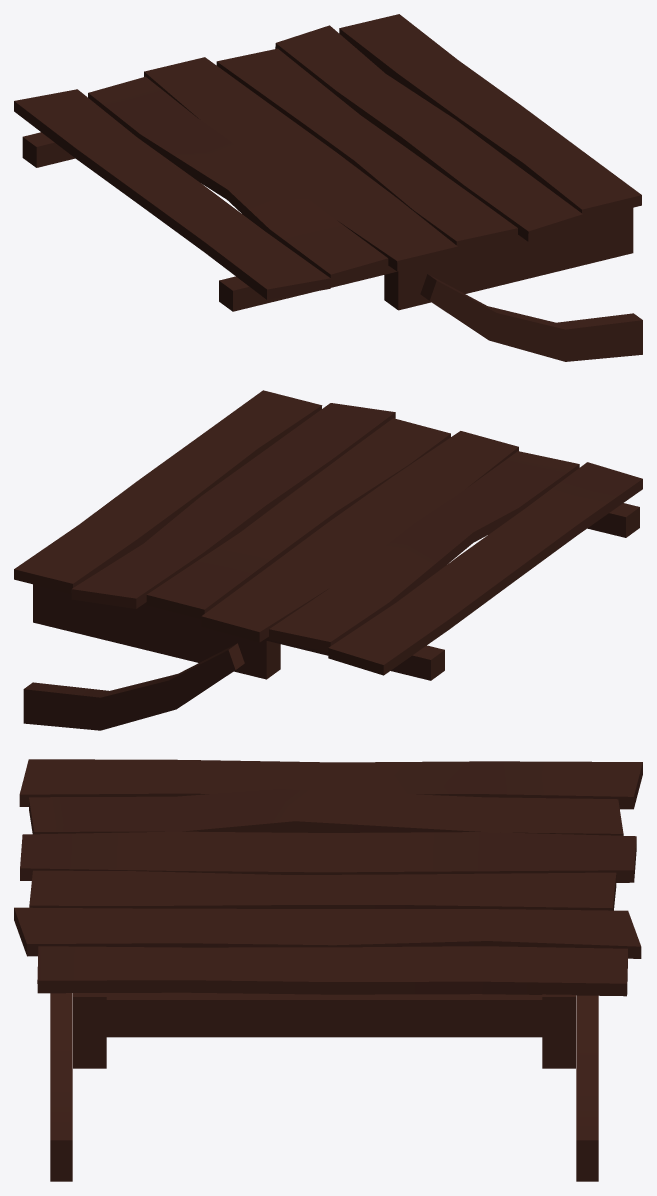
File: wooden_support_1.FBX
The picture shows the model from 3 angles, top to bottom: view 1: azimuth 30°, elevation 25°; view 2: azimuth 150°, elevation 25°; view 3: azimuth 270°, elevation 25°; orthographic projection. The views are drawn at different scales.
Visible parts, largest first — view 1: wooden_support_1; view 2: wooden_support_1; view 3: wooden_support_1.
Boxes of the visible parts, x1,y1,x2,y2 form: wooden_support_1: (14,14,642,361); wooden_support_1: (14,390,642,730); wooden_support_1: (14,759,642,1181).
Bounding box in the file's own units: 200 × 82.64 × 228.
